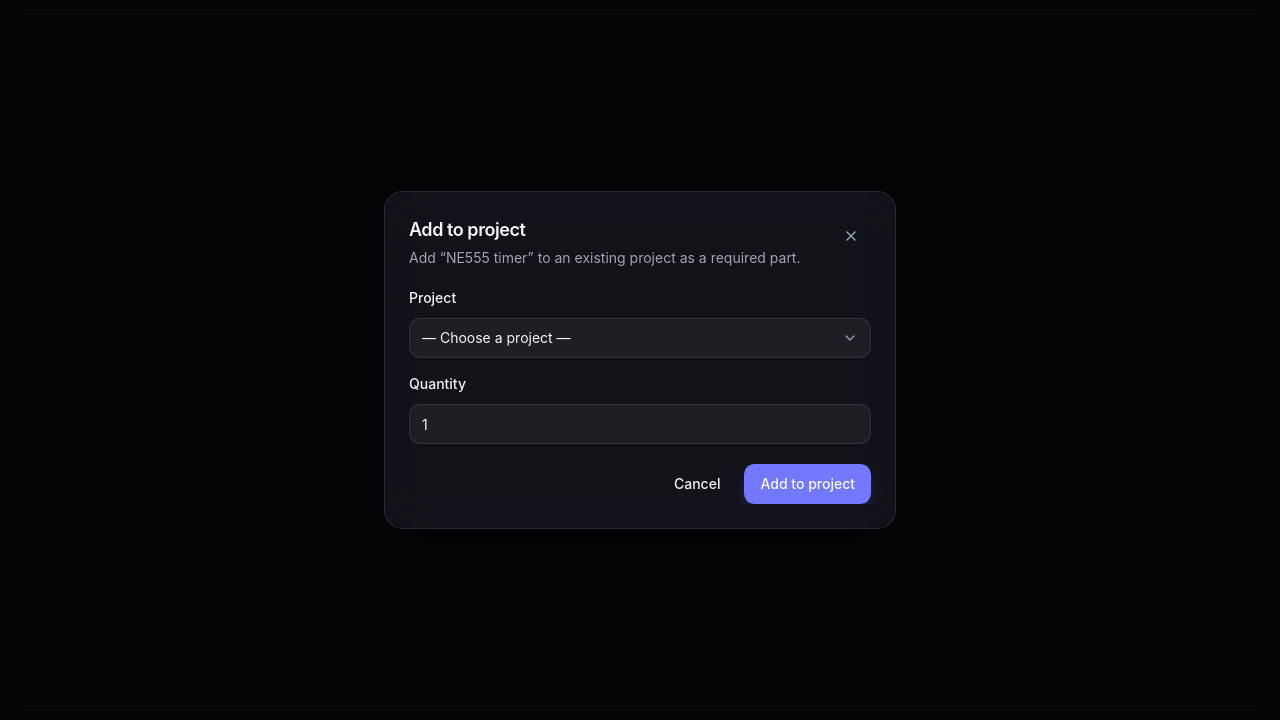
Test: AddItemToProjectDialog › blocks submission until a project is chosen
Click the button "Add to project" at coordinates (808, 484), box [744,464,871,504]
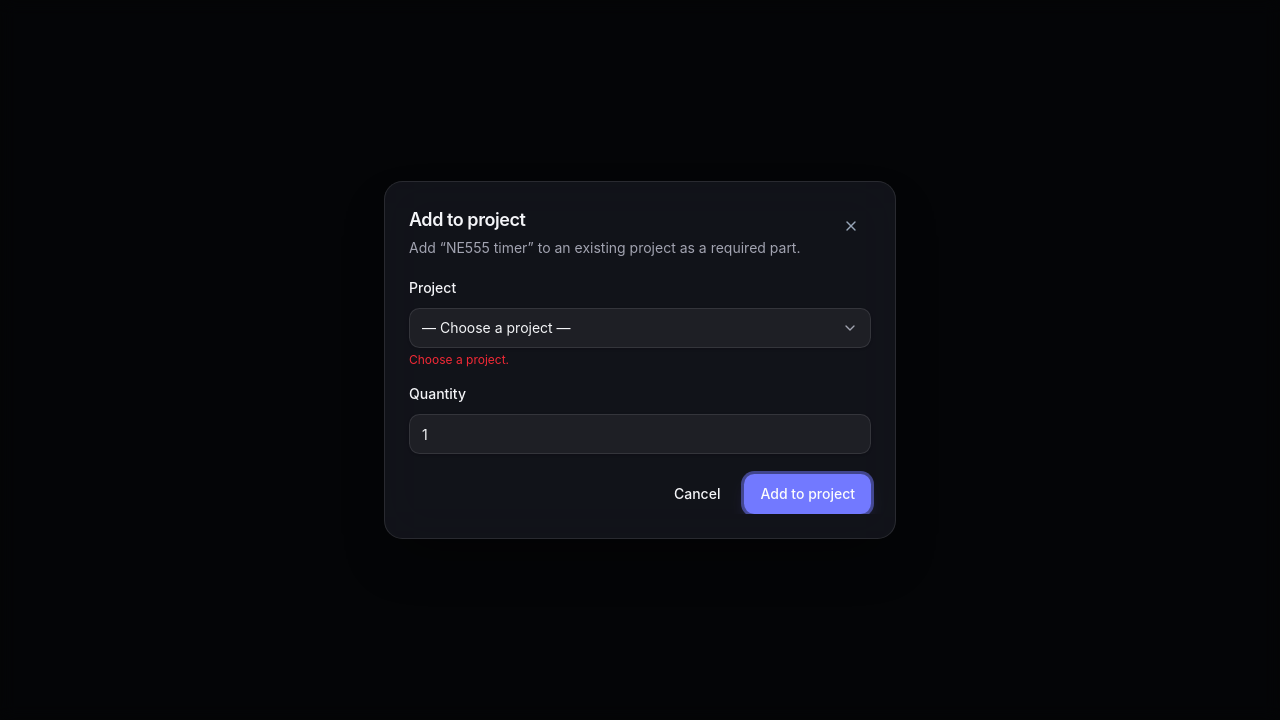
Check: the message shows "Choose a project", box [409,352,509,367]
